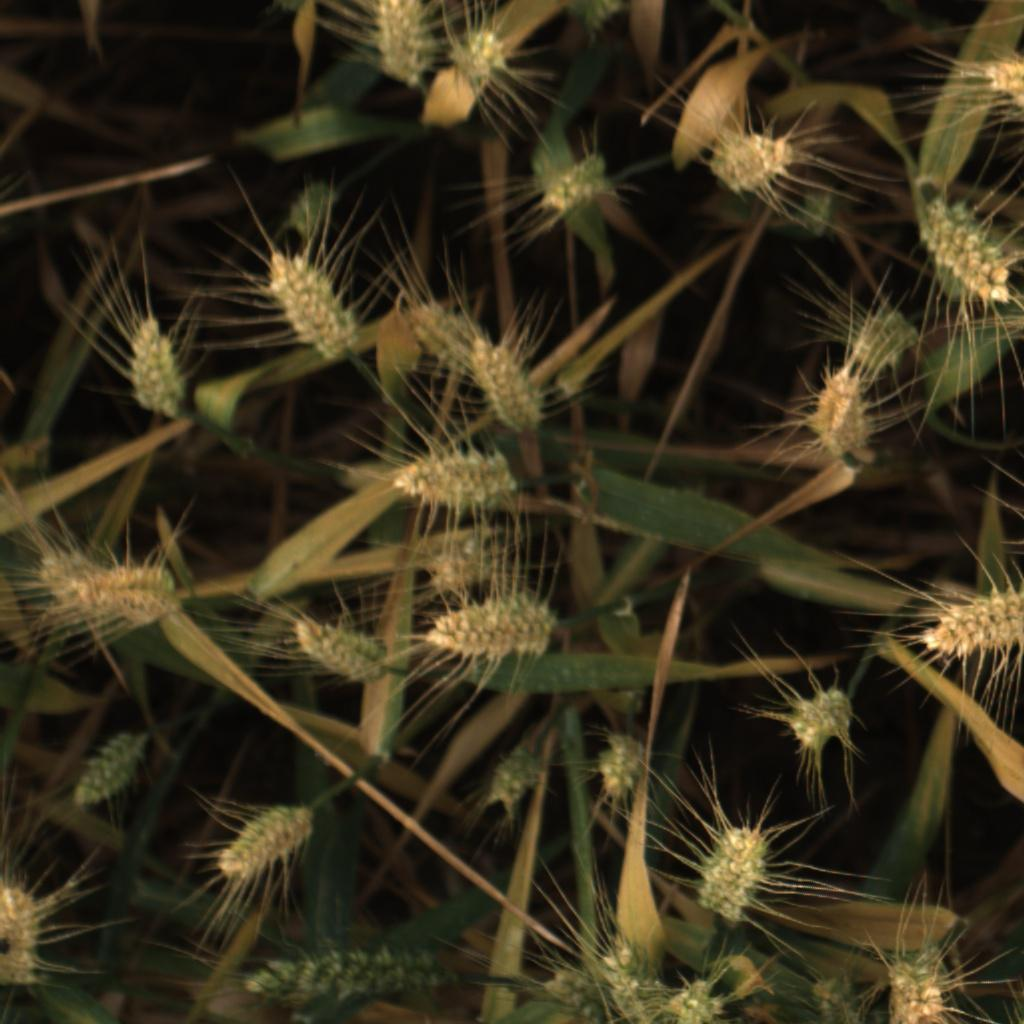0-0: (244, 942, 446, 1007), (909, 195, 1022, 305), (260, 248, 359, 355), (408, 286, 509, 390), (427, 593, 561, 661), (915, 574, 1024, 657), (212, 800, 316, 885), (390, 448, 518, 510), (695, 823, 778, 917), (291, 612, 392, 685), (593, 930, 670, 1024), (118, 312, 186, 418), (28, 550, 130, 619), (3, 871, 59, 995), (469, 334, 540, 431), (271, 174, 357, 253), (72, 561, 176, 626), (804, 362, 873, 457), (367, 0, 437, 88), (73, 729, 145, 813), (719, 119, 795, 196), (849, 303, 919, 378), (786, 678, 855, 749), (546, 146, 613, 218), (888, 954, 952, 1024), (423, 529, 490, 593), (486, 741, 548, 810), (539, 964, 609, 1024), (969, 53, 1023, 130), (591, 733, 649, 804), (450, 28, 511, 88), (807, 970, 869, 1024), (665, 974, 727, 1024), (793, 171, 841, 235), (566, 0, 627, 41)
